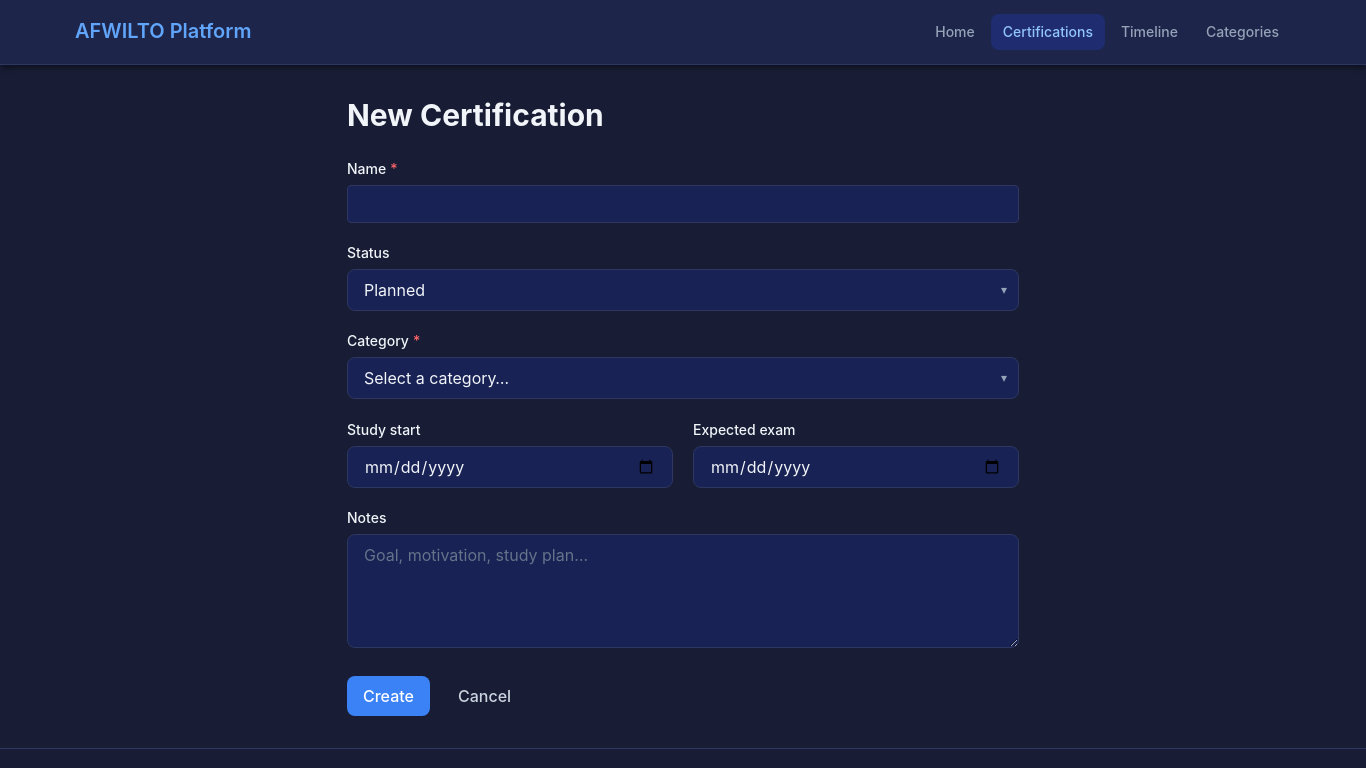
Test: CertificationFormPage (create) › AC-3: expected exam date before study start shows date error, no submit
Type "AWS SAA" into the field labelled "Name*" at (683,204), box [347,184,1019,222]
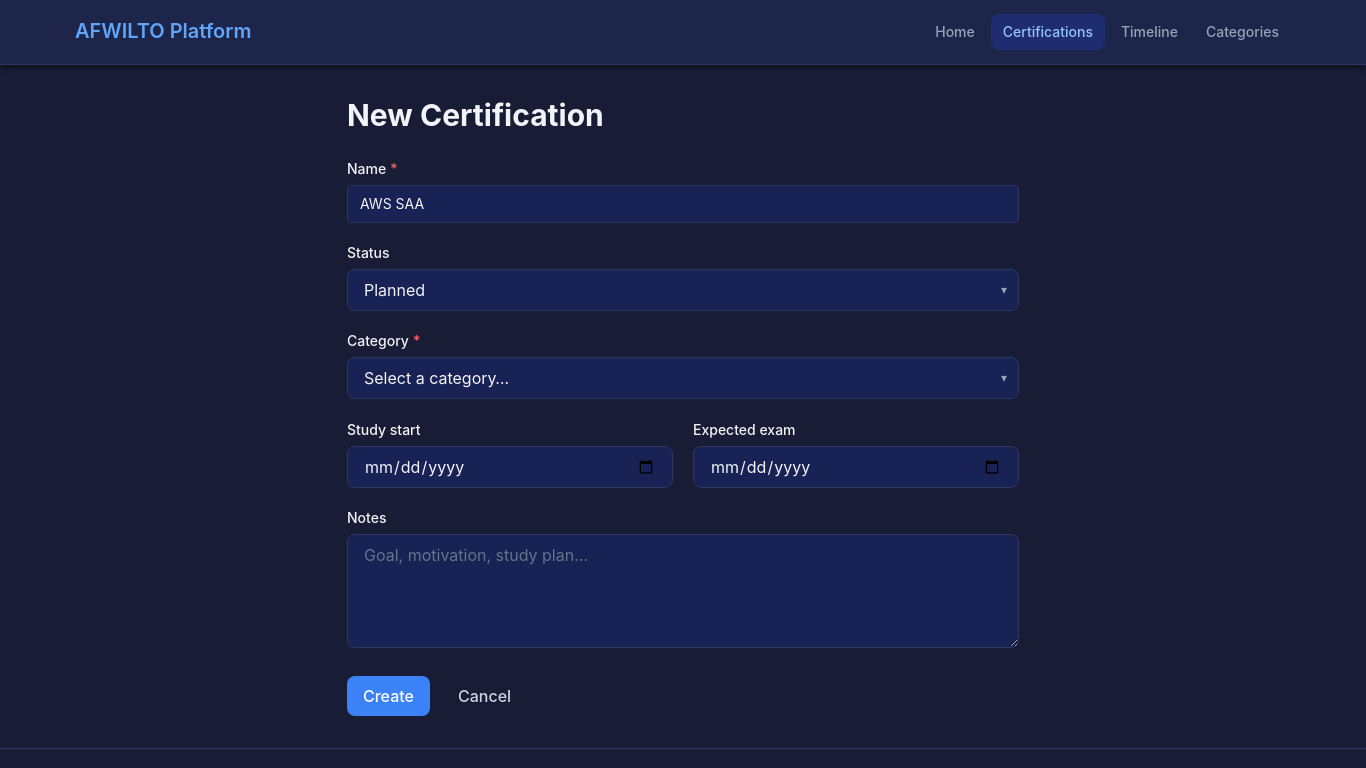
Type "2026-09-01" into the date field labelled "Study start" at (510,466), box [347,446,673,488]
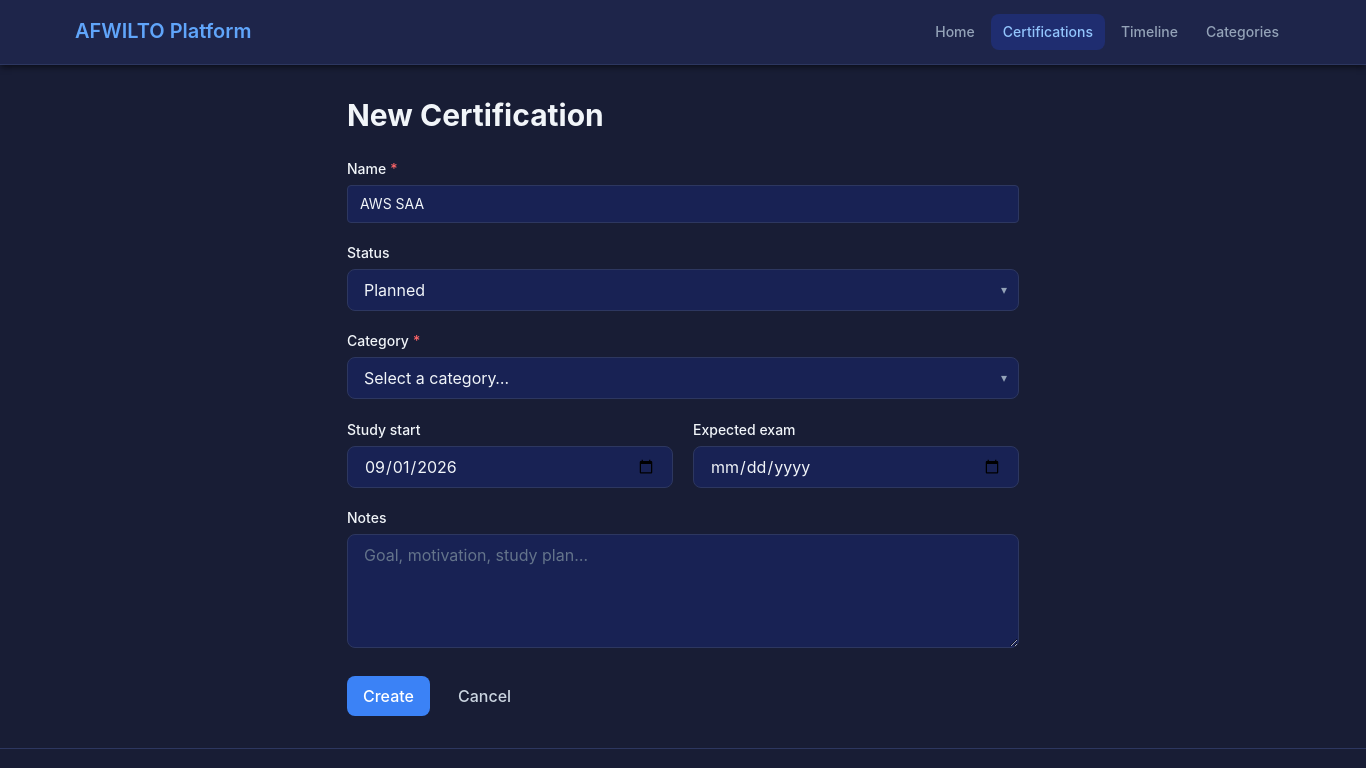
Type "2026-01-01" into the date field labelled "Expected exam" at (856,466), box [693,446,1019,488]
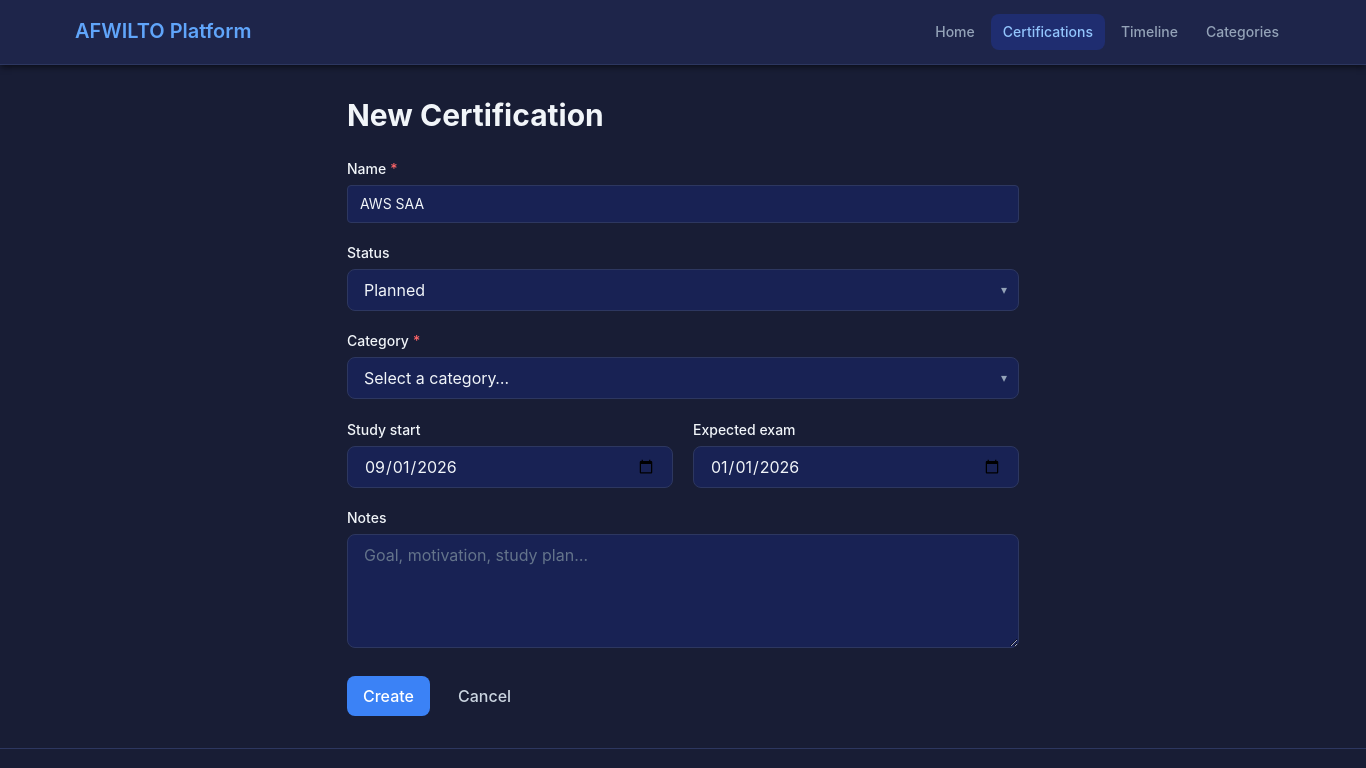
Click the button "Create" at (388,696), box [347,676,430,716]
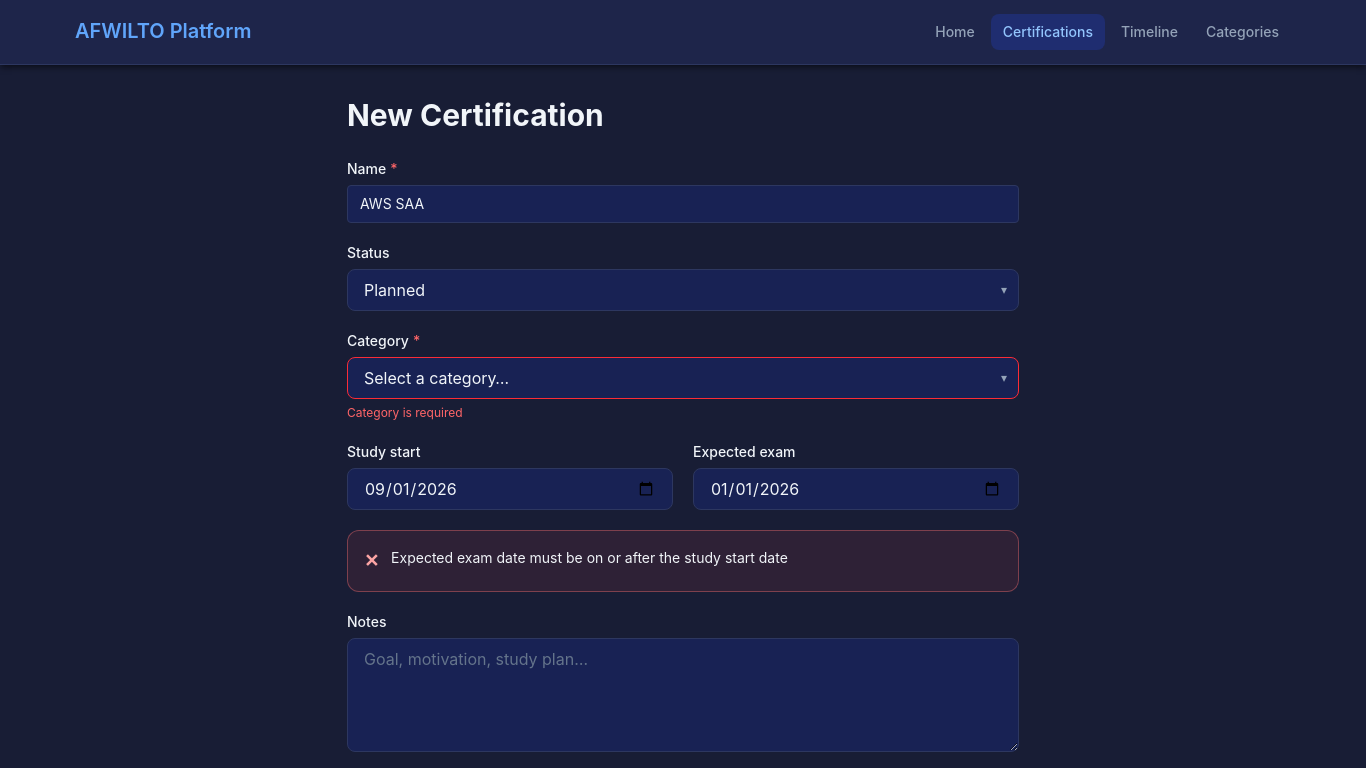
Result: the text "Expected exam date must be on or after the study start date" is shown at [391,548,788,566]
